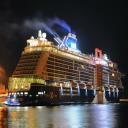cruises: (8, 30, 125, 107)
